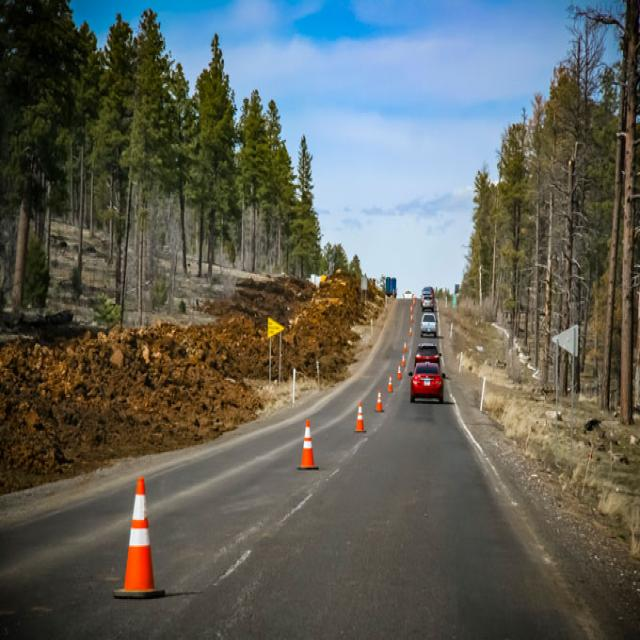cone: (117, 464, 167, 603)
